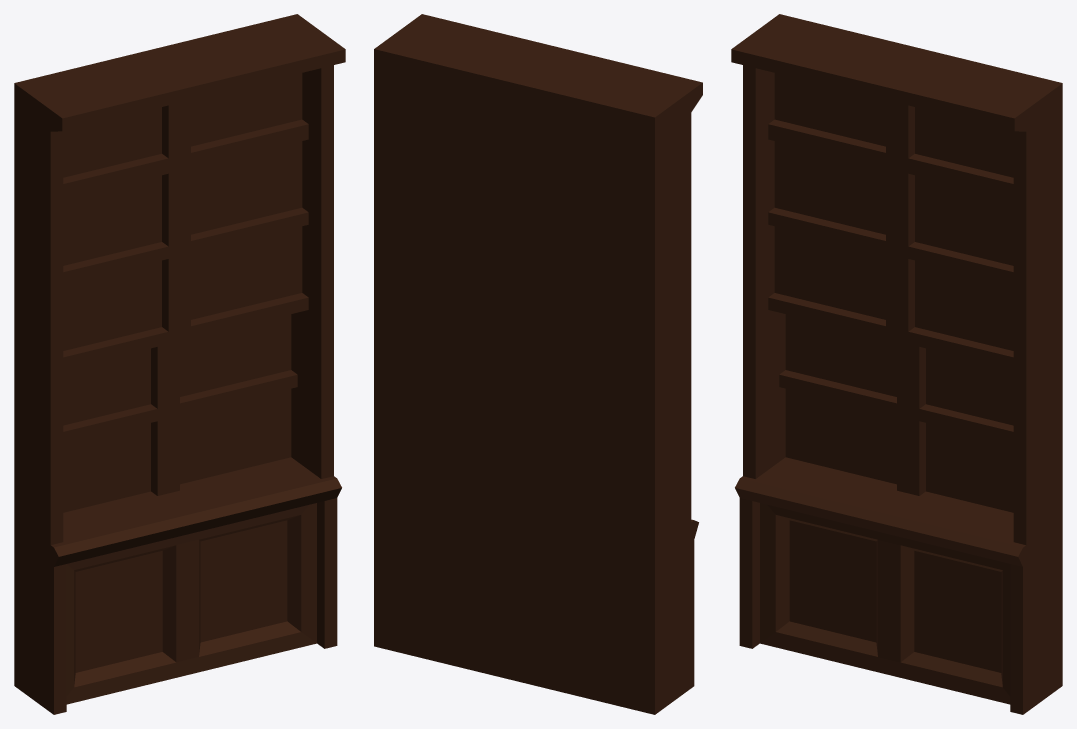
The model's file is F_bossromm_window.fbx.
The picture shows the model from 3 angles, left to right: view 1: azimuth 30°, elevation 25°; view 2: azimuth 150°, elevation 25°; view 3: azimuth 330°, elevation 25°; orthographic projection.
Parts seen in each view (by area): view 1: boss_window; view 2: boss_window; view 3: boss_window.
Boxes of the visible parts, x1,y1,x2,y2 form: boss_window: (14,14,345,714); boss_window: (374,14,702,714); boss_window: (731,14,1062,714).
Bounding box in the file's own units: 113 × 230 × 33.35.
